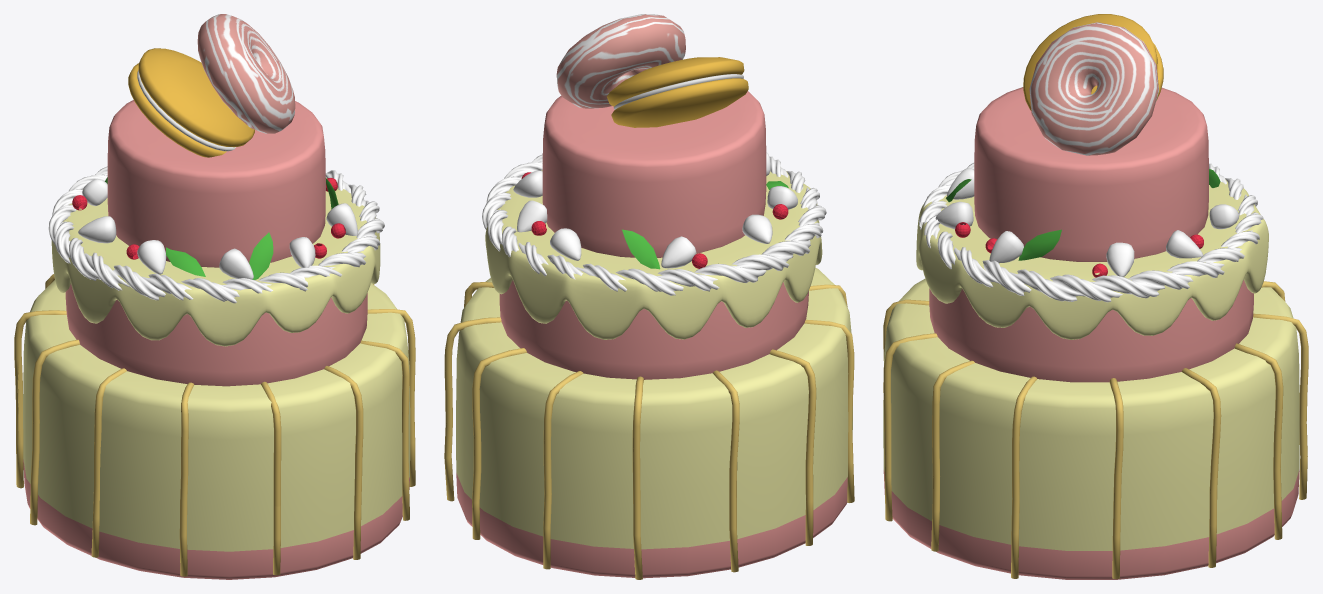
File: cake.glb
3 renders of one model, left to right at view 1: azimuth 30°, elevation 25°; view 2: azimuth 150°, elevation 25°; view 3: azimuth 270°, elevation 25°, orthographic. The views are drawn at different scales.
Visible parts, largest first — view 1: Cube.004; view 2: Cube.004; view 3: Cube.004.
Boxes of the visible parts, <box> form: Cube.004: <box>14,14,415,579</box>; Cube.004: <box>444,14,854,579</box>; Cube.004: <box>883,14,1308,579</box>.
Bounding box in the file's own units: 1.88 × 2.46 × 1.98.
Materials: 10 (1 with a texture image).
